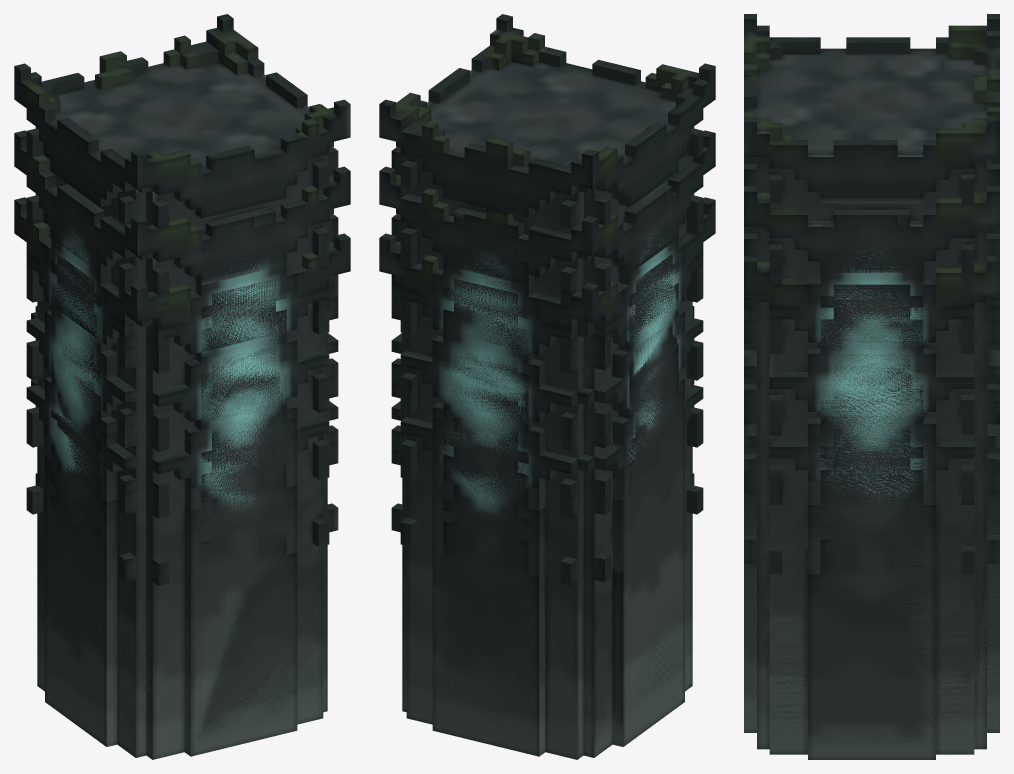
File: tall_islands.fbx
3 views of the same model, side by side, from view 1: azimuth 30°, elevation 25°; view 2: azimuth 150°, elevation 25°; view 3: azimuth 270°, elevation 25° (orthographic). The views are drawn at different scales.
Visible parts, largest first — view 1: tall_isl_extra2.001, tall_island.001, tall_isl_extra1.001; view 2: tall_isl_extra2.001, tall_island.001, tall_isl_extra1.001; view 3: tall_island.001, tall_isl_extra2.001, tall_isl_extra1.001.
Part boxes in pixels (x1=…): tall_isl_extra2.001: x1=14, y1=14, x2=350, y2=759; tall_island.001: x1=14, y1=130, x2=350, y2=759; tall_isl_extra1.001: x1=14, y1=197, x2=350, y2=759; tall_isl_extra2.001: x1=379, y1=14, x2=715, y2=759; tall_island.001: x1=379, y1=130, x2=715, y2=759; tall_isl_extra1.001: x1=379, y1=197, x2=715, y2=758; tall_island.001: x1=744, y1=186, x2=999, y2=759; tall_isl_extra2.001: x1=744, y1=14, x2=999, y2=759; tall_isl_extra1.001: x1=744, y1=256, x2=999, y2=759.
Size of the model in its own units: 200 by 550 by 200.
